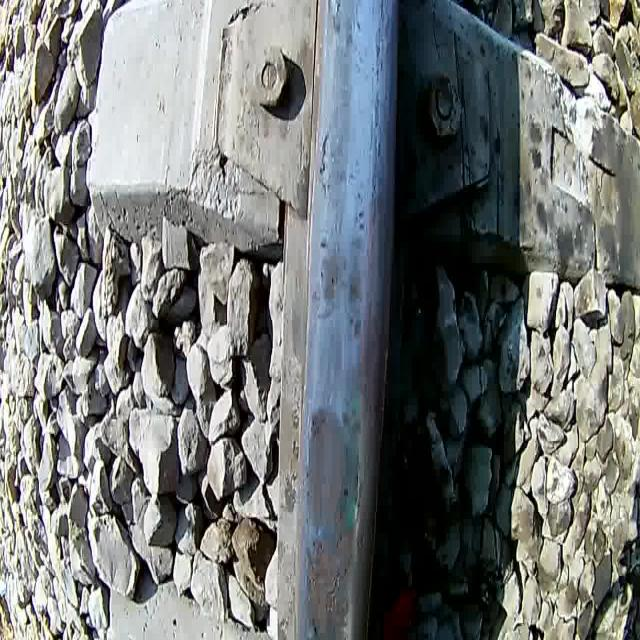Spallings: (317, 126, 333, 192)
Squats: (300, 395, 368, 543), (309, 203, 373, 344), (296, 530, 360, 640)
